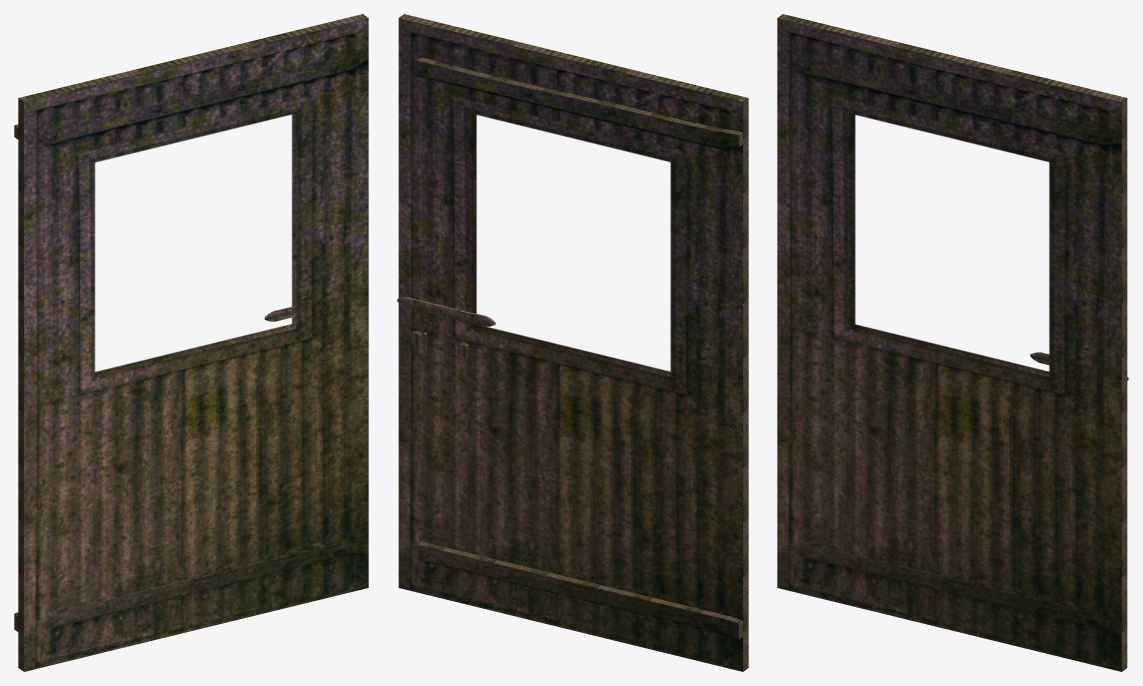
File: door_14.glb
3 views of the same model, side by side, from view 1: azimuth 30°, elevation 25°; view 2: azimuth 150°, elevation 25°; view 3: azimuth 330°, elevation 25° (orthographic).
Visible parts, largest first — view 1: polySurface36.001; view 2: polySurface36.001; view 3: polySurface36.001.
Boxes of the visible parts, left/top/right/bottom form: polySurface36.001: left=14, top=14, right=368, bottom=671; polySurface36.001: left=397, top=14, right=748, bottom=671; polySurface36.001: left=777, top=14, right=1128, bottom=671.
Bounding box in the file's own units: 1.33 × 2.1 × 0.0655.
Materials: 1 (1 with a texture image).
